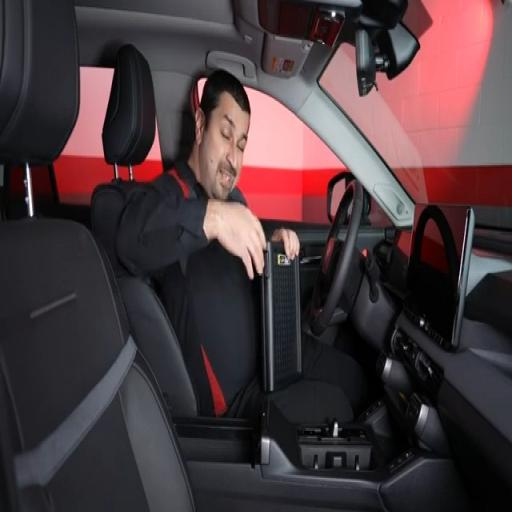emblem: (278, 254, 291, 265)
side_mirror: (327, 171, 354, 223), (327, 171, 353, 221)
window: (239, 87, 346, 224), (54, 67, 113, 204)
windshield: (320, 0, 511, 227)
